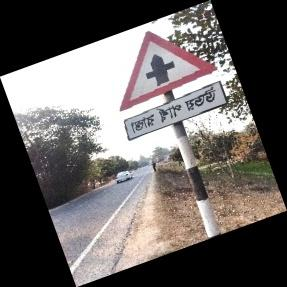Crossroad: (119, 29, 226, 146)
